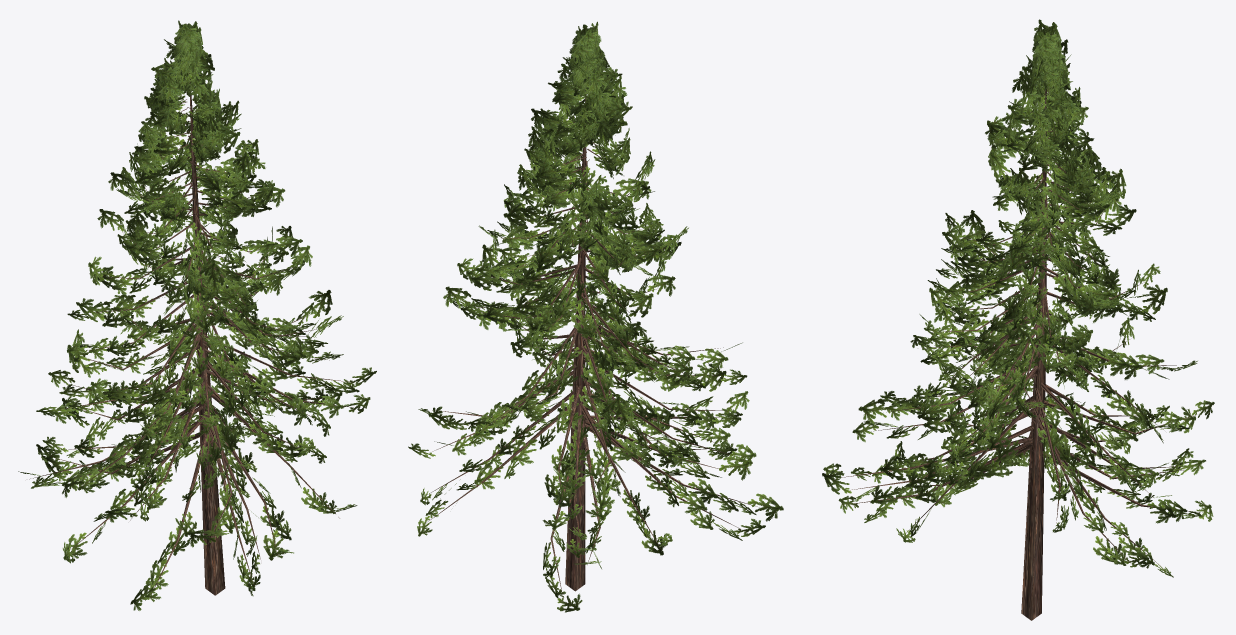
The model's file is pine-lod2.glb.
3 views of the same model, side by side, from view 1: azimuth 30°, elevation 25°; view 2: azimuth 150°, elevation 25°; view 3: azimuth 270°, elevation 25° (orthographic). The views are drawn at different scales.
Parts seen in each view (by area): view 1: leaves, branches; view 2: leaves, branches; view 3: leaves, branches.
Boxes of the visible parts, x1=… form: leaves: x1=18, y1=20, x2=376, y2=610; branches: x1=29, y1=71, x2=356, y2=598; leaves: x1=408, y1=21, x2=783, y2=612; branches: x1=427, y1=91, x2=759, y2=597; leaves: x1=822, y1=19, x2=1214, y2=577; branches: x1=837, y1=87, x2=1202, y2=620.
Size of the model in its own units: 39.98 by 68.95 by 43.8.
2 materials, 2 textured.
